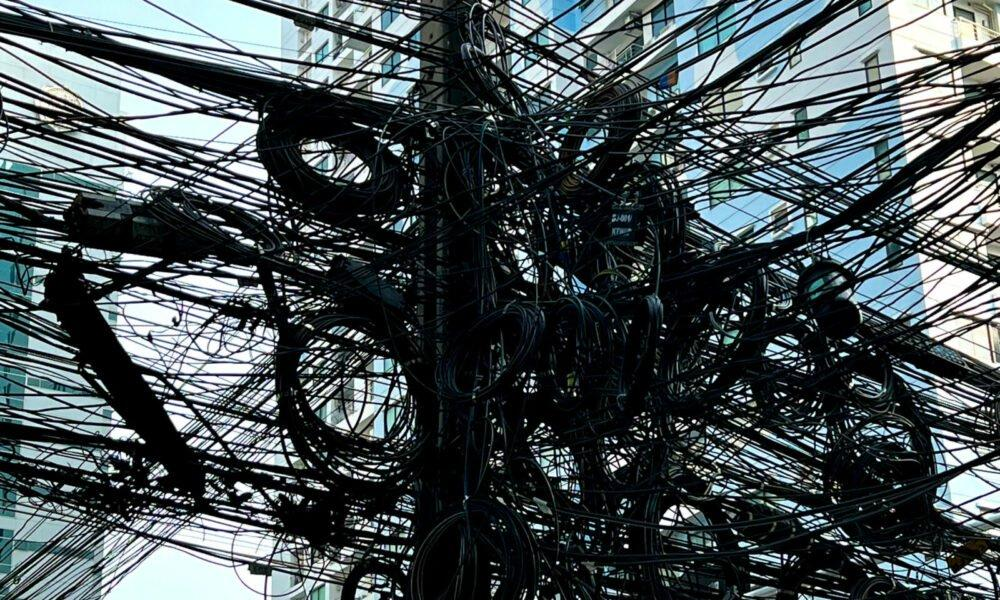wires-only: (497, 0, 1000, 598), (0, 0, 419, 598)
